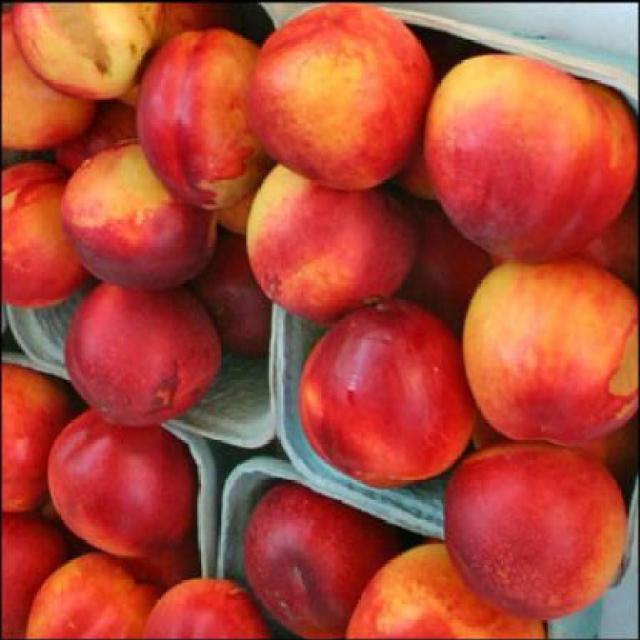Peach: (0, 2, 638, 640), (420, 56, 638, 262)
